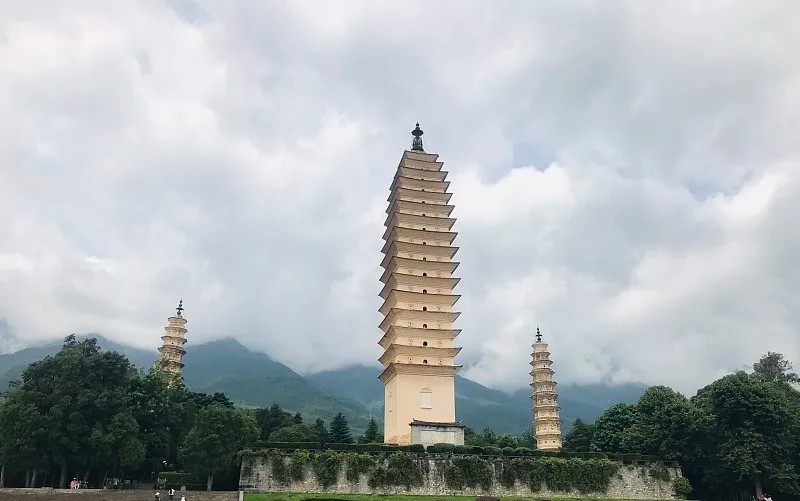ThreePagoda: (377, 121, 463, 445)
